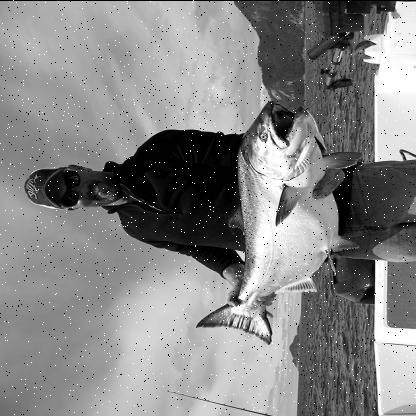fish: (194, 104, 360, 346)
